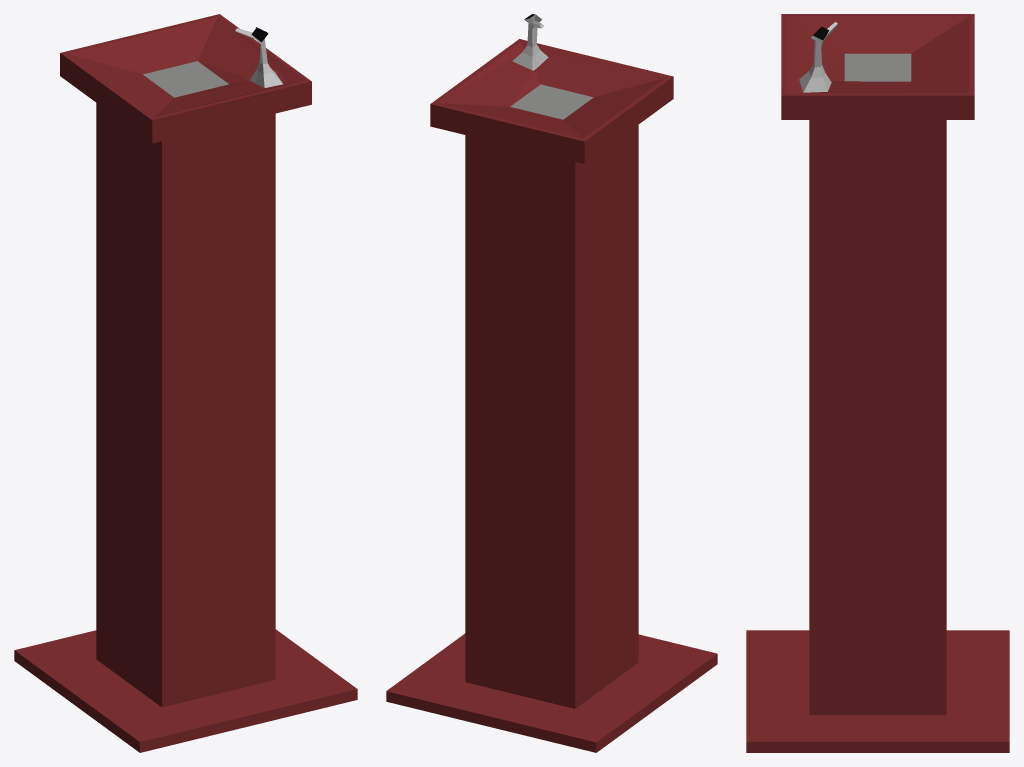
File: DrinkingFountain.fbx
The picture shows the model from 3 angles, left to right: view 1: azimuth 30°, elevation 25°; view 2: azimuth 150°, elevation 25°; view 3: azimuth 270°, elevation 25°; orthographic projection. The views are drawn at different scales.
Parts seen in each view (by area): view 1: DrinkingFountain; view 2: DrinkingFountain; view 3: DrinkingFountain.
Part boxes in pixels (x1,y1,x2,y2): DrinkingFountain: (14, 14, 357, 752); DrinkingFountain: (386, 14, 717, 752); DrinkingFountain: (746, 14, 1009, 752).
Bounding box in the file's own units: 0.4214 × 0.4214 × 1.22.
1 material, 1 textured.
